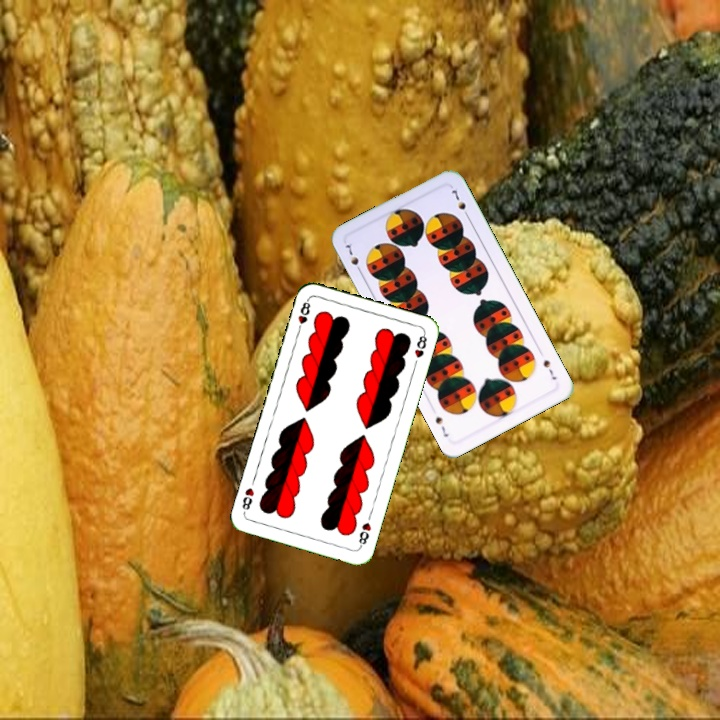H8: (294, 295, 313, 335), (355, 518, 374, 550)
S7: (341, 238, 365, 277), (539, 356, 559, 383)
